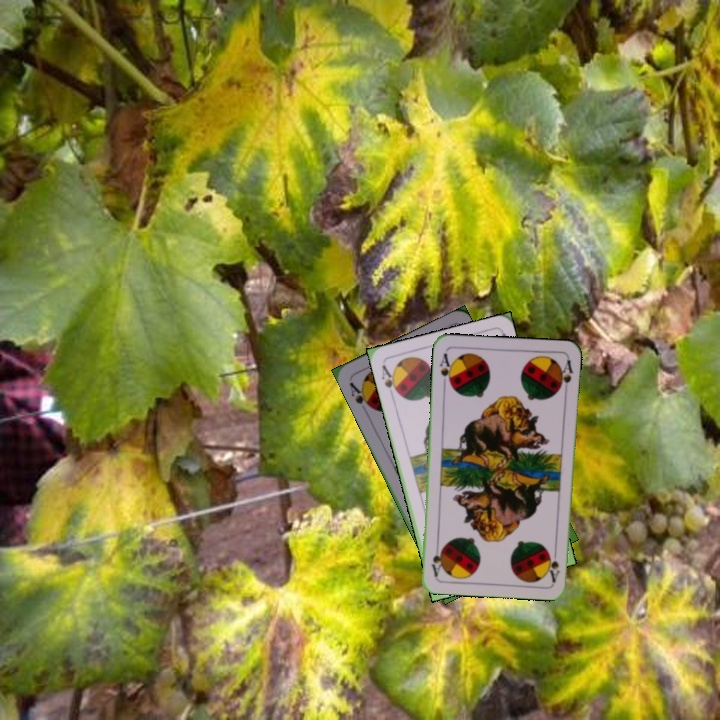SA: (345, 378, 375, 412), (377, 361, 402, 398), (436, 349, 455, 390), (545, 543, 562, 584)
